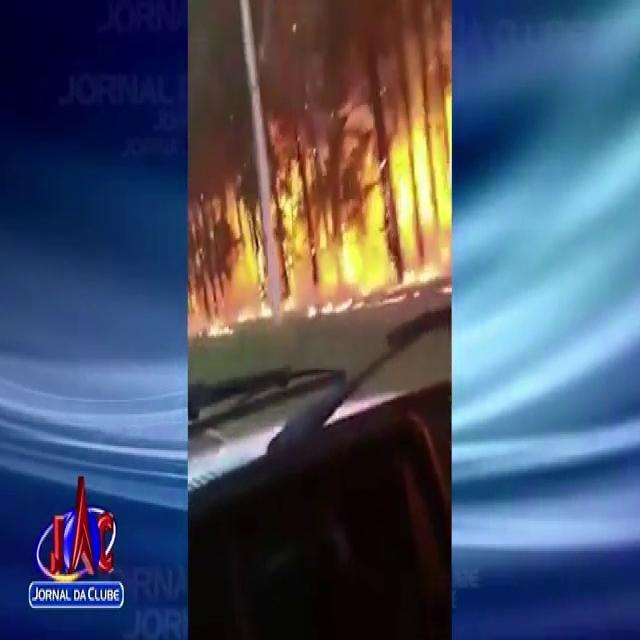Fire: (391, 128, 446, 228), (342, 198, 396, 290), (238, 244, 268, 288)
